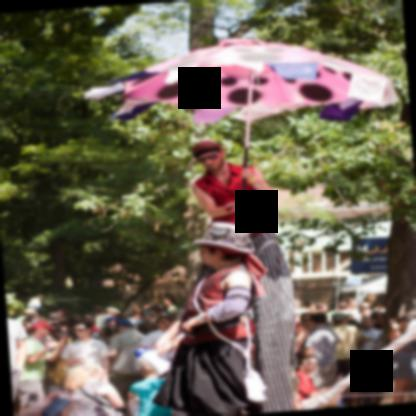handbag: (192, 269, 269, 402), (79, 386, 128, 415)
